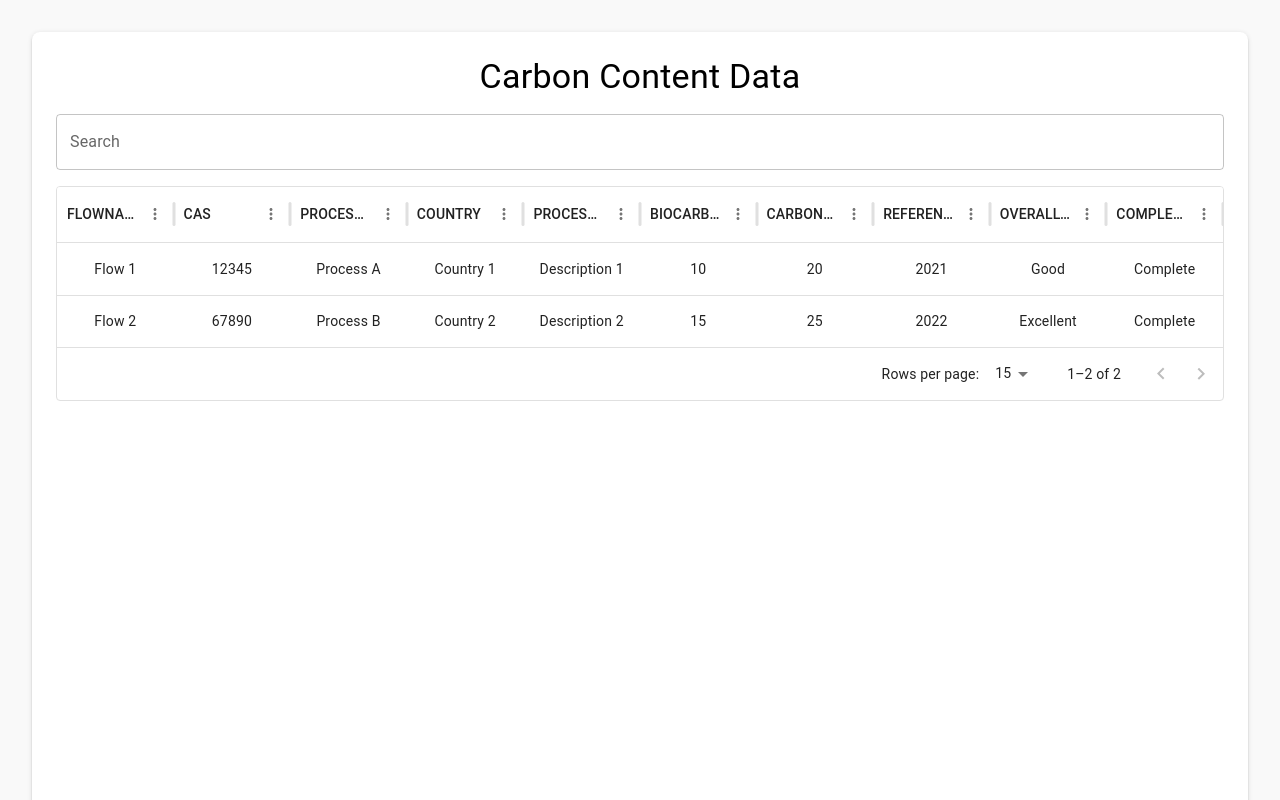
App Component › should display no results if search term doesn't match
The width and height of the screenshot is (1280, 800).
Expected: the heading "Carbon Content Data" is shown, [480,56,800,96]
# Find the search box and simulate typing a term that doesn't exist
Type "Non-existent Flow" into the field labelled "Search" at coordinates (640, 142), box [56,114,1224,170]
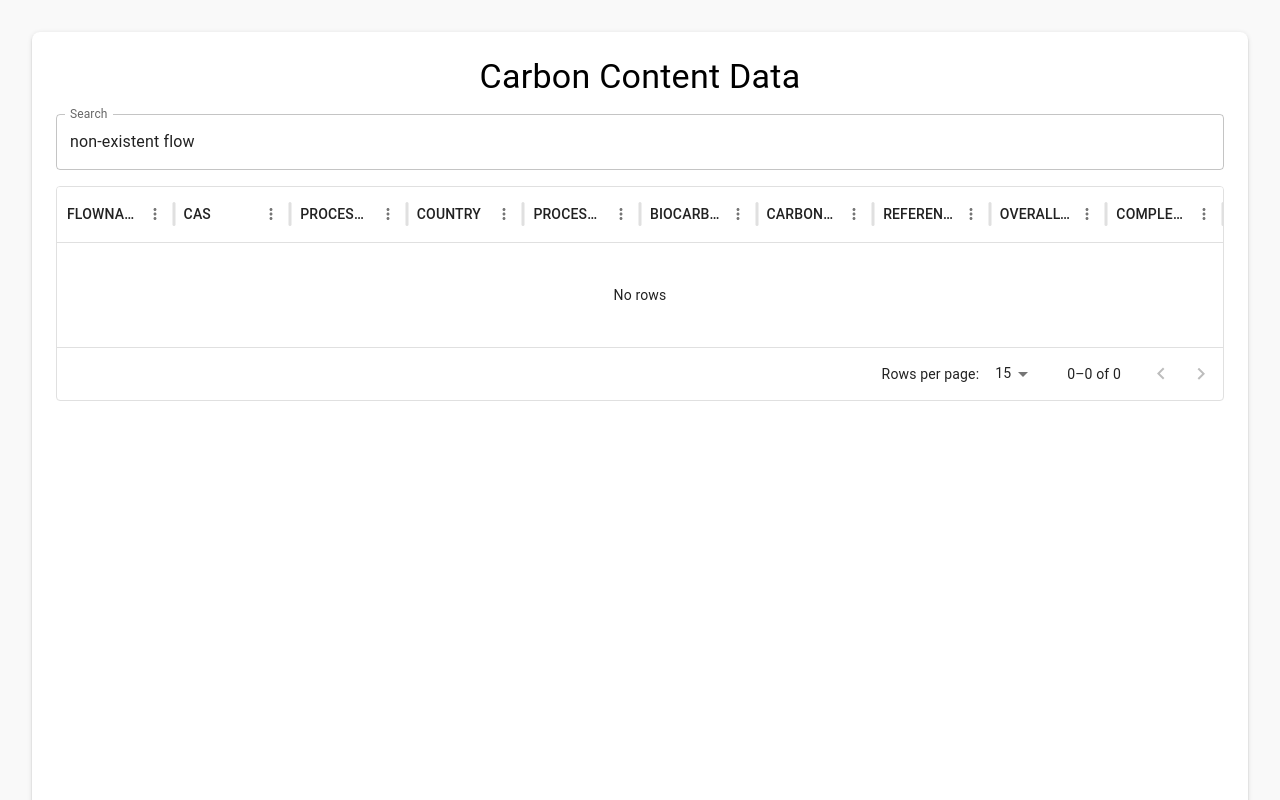
Result: the text "Flow 1" is gone
Result: the text "Flow 2" is gone
